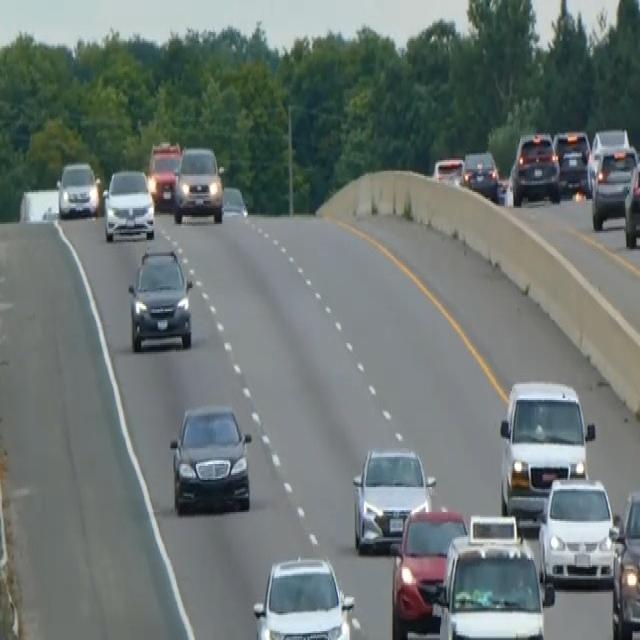car: (390, 505, 468, 638), (168, 402, 252, 516), (351, 444, 436, 553), (537, 473, 617, 588), (251, 553, 355, 638), (127, 245, 193, 352), (611, 487, 639, 638), (590, 144, 639, 229), (173, 144, 224, 224), (102, 167, 155, 242), (510, 130, 561, 204), (586, 124, 630, 190), (552, 128, 591, 196), (56, 160, 100, 219), (461, 148, 499, 199), (623, 155, 639, 249), (590, 125, 629, 156), (221, 183, 248, 219), (432, 155, 463, 185)
minivan: (432, 514, 546, 638), (498, 377, 595, 521)
